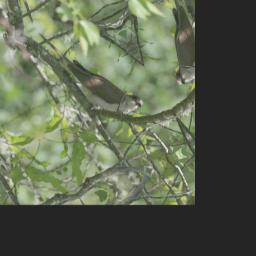Cuckoo: (36, 8, 146, 130)
